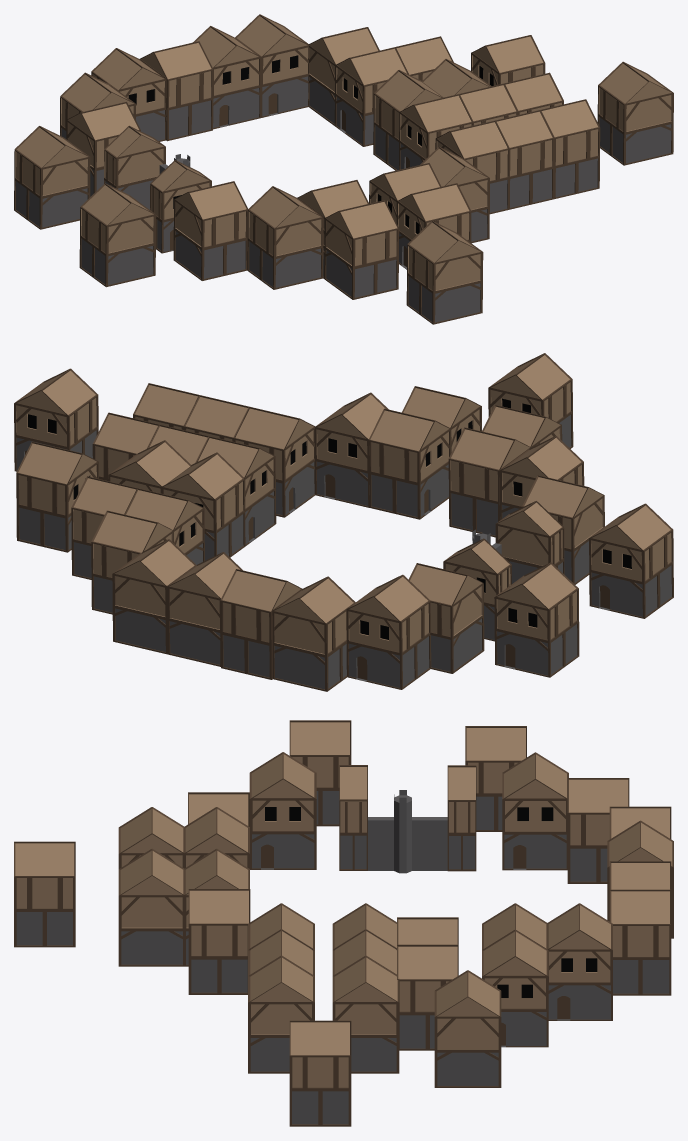
File: TV_RiseOfTheDarkLordHouses.fbx
3 renders of one model, top to bottom at view 1: azimuth 30°, elevation 25°; view 2: azimuth 150°, elevation 25°; view 3: azimuth 270°, elevation 25°, orthographic. The views are drawn at different scales.
Visible parts, largest first — view 1: Cube.032; view 2: Cube.032; view 3: Cube.032.
Part boxes in pixels (<box>): Cube.032: <box>14,14,673,324</box>; Cube.032: <box>14,353,673,691</box>; Cube.032: <box>14,720,673,1126</box>.
Size of the model in its own units: 7918 by 1114 by 6835.
